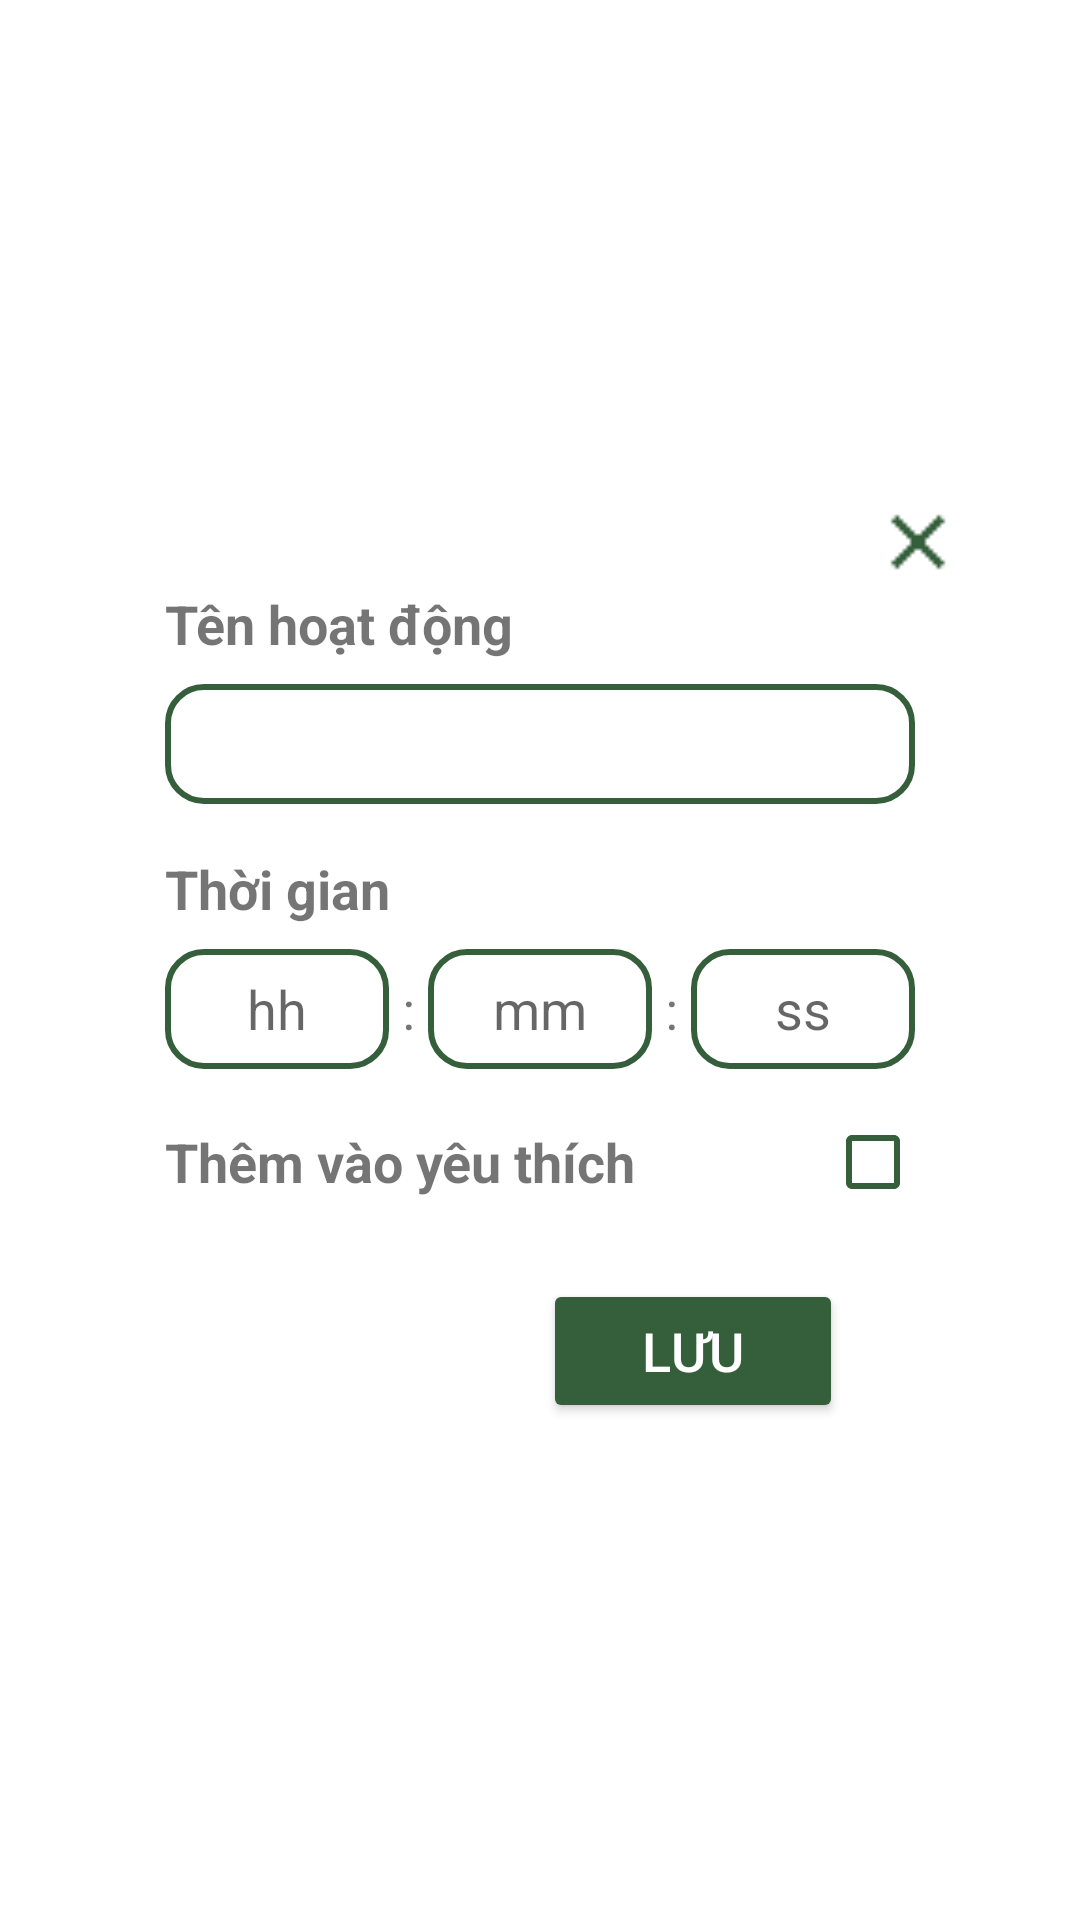

Locate icon controls on the screen. Image size 1080w x 1920h, boxes as (x1, y1, x2, y2).
close: (890, 514, 946, 570)
